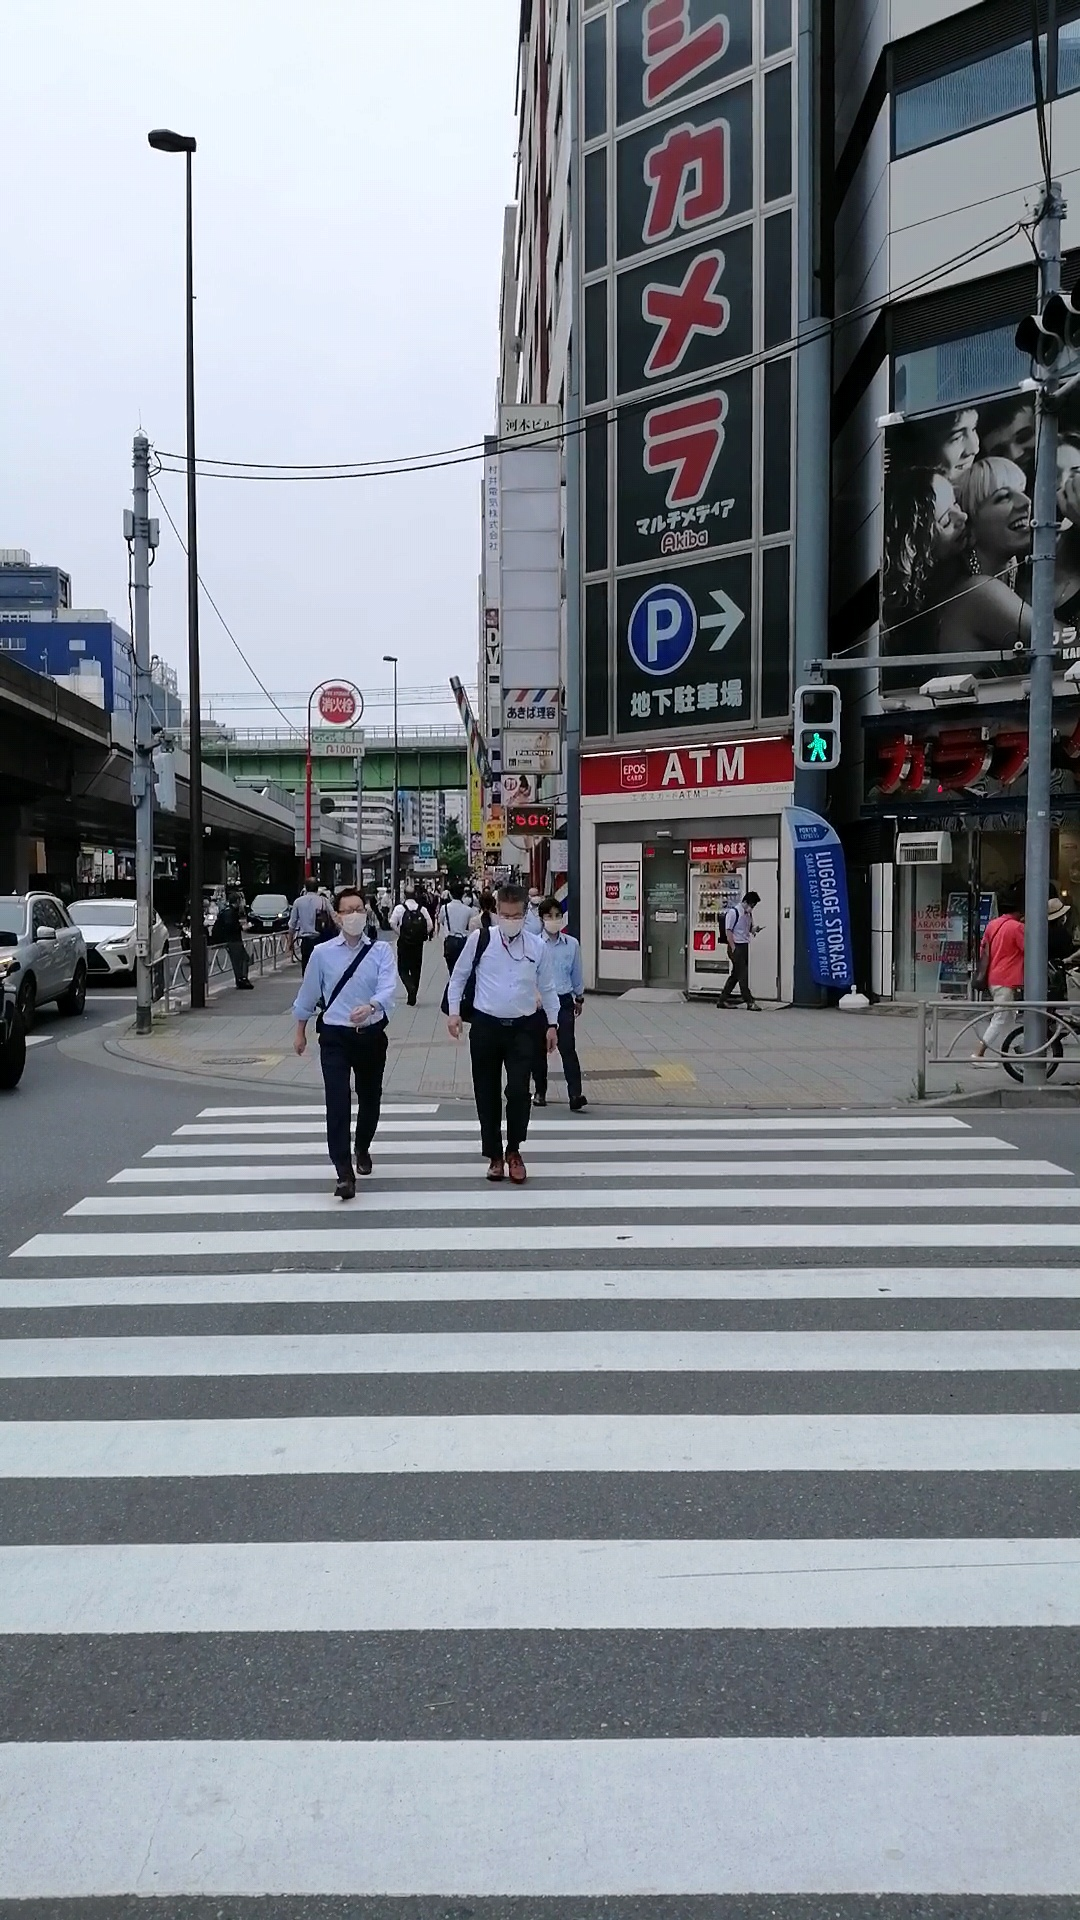green: (793, 683, 840, 770)
